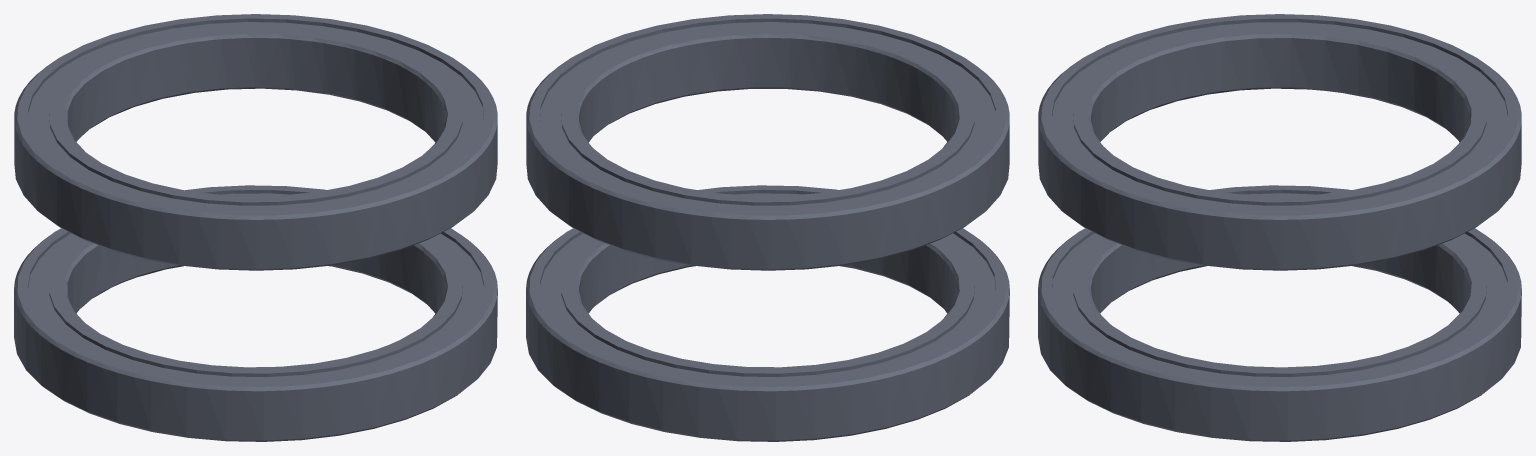
File: solo_upper_leg_16.obj
3 views of the same model, side by side, from view 1: azimuth 30°, elevation 25°; view 2: azimuth 150°, elevation 25°; view 3: azimuth 270°, elevation 25° (orthographic).
Size of the model in its own units: 0.032 by 0.0165 by 0.032.
